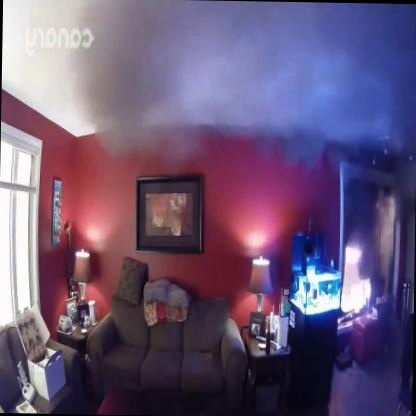smoke: (51, 5, 416, 169)
